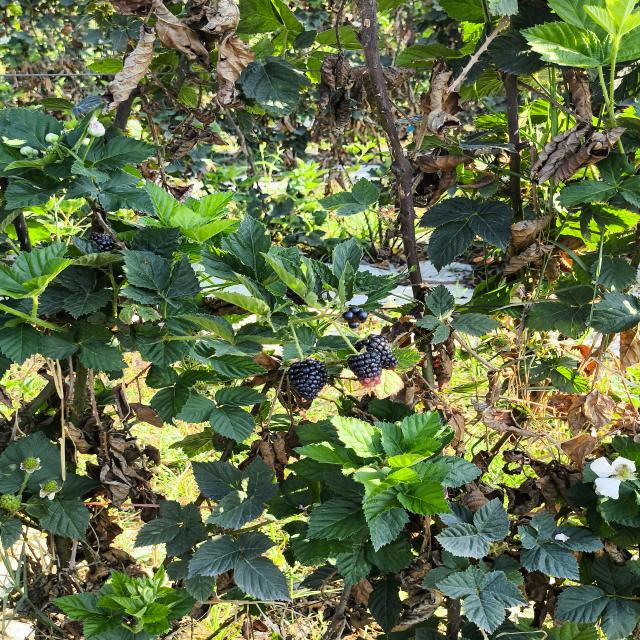maduro: (288, 358, 327, 401), (90, 232, 114, 252)
marron: (355, 334, 398, 369), (347, 352, 382, 387)
